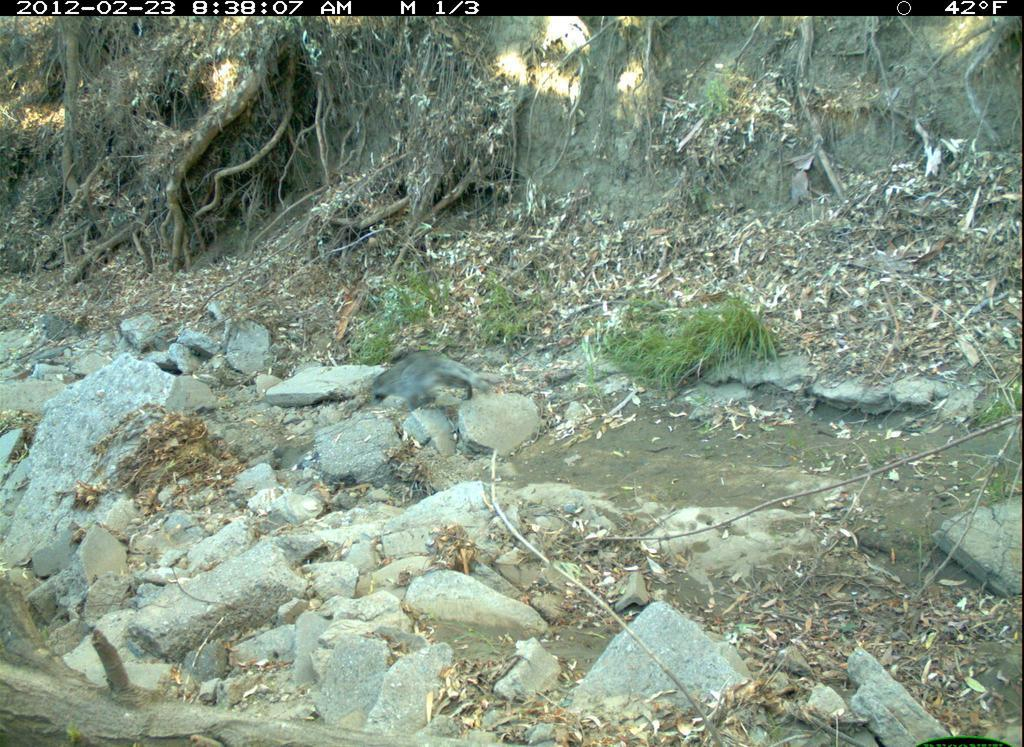raccoon: (351, 337, 504, 432)
